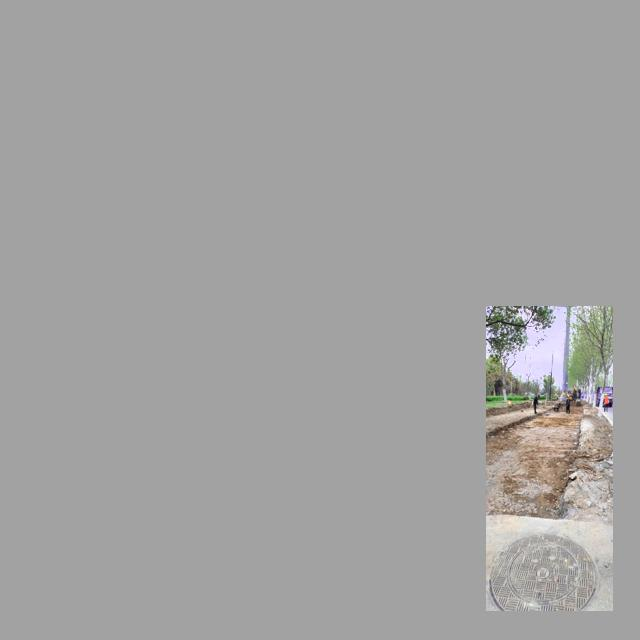good: (489, 530, 601, 611)
